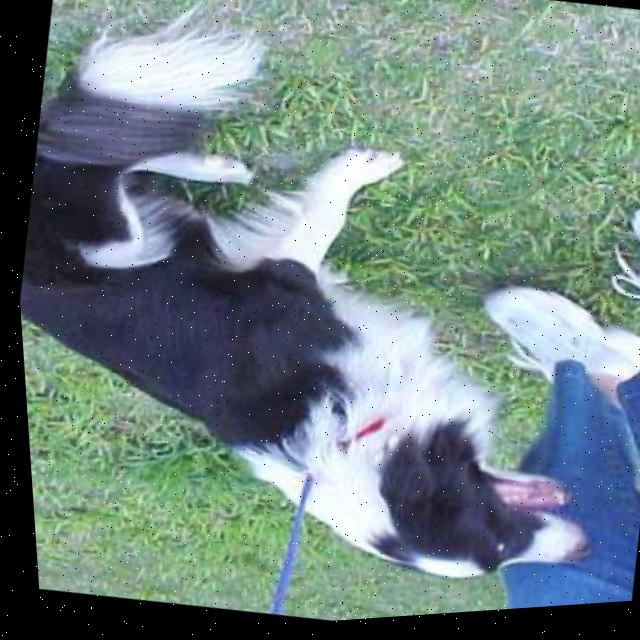dogs: (0, 0, 640, 631)
